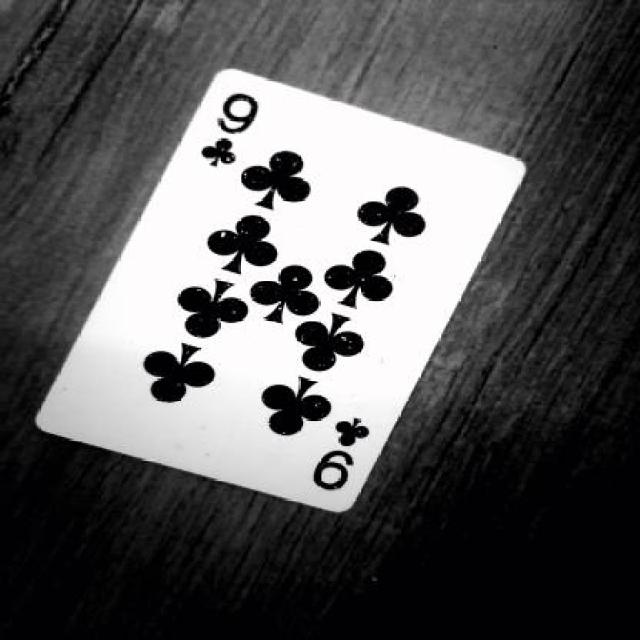9C: (180, 80, 275, 194), (314, 401, 384, 514)
